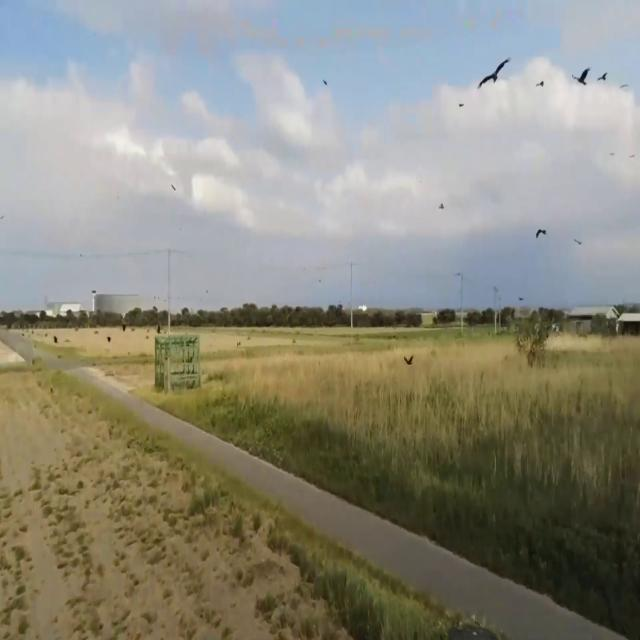bird: (477, 39, 511, 108), (573, 53, 592, 96), (535, 219, 547, 249), (403, 346, 414, 376), (596, 62, 608, 89), (536, 72, 544, 96)
